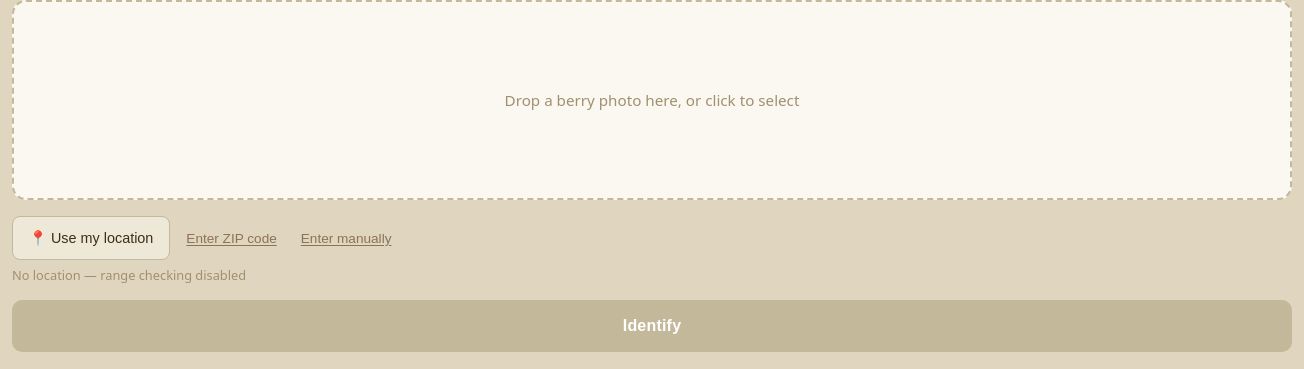
Test: GPS — Use my location › shows error state when geolocation is denied
The width and height of the screenshot is (1304, 369).
Step 1. Click the button "📍 Use my location" → (91, 238), box 12,216 -> 170,260
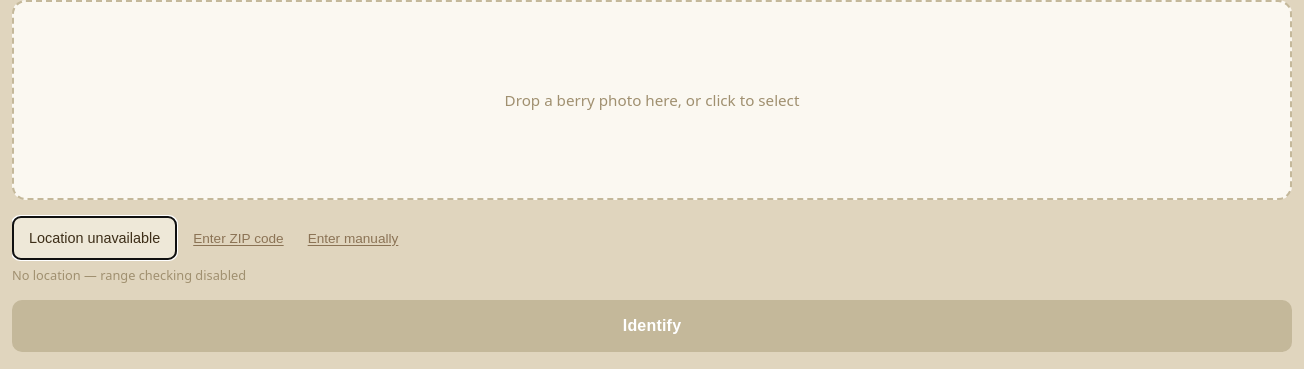
Now the button "Location unavailable" is shown, box 12,216 -> 177,260
